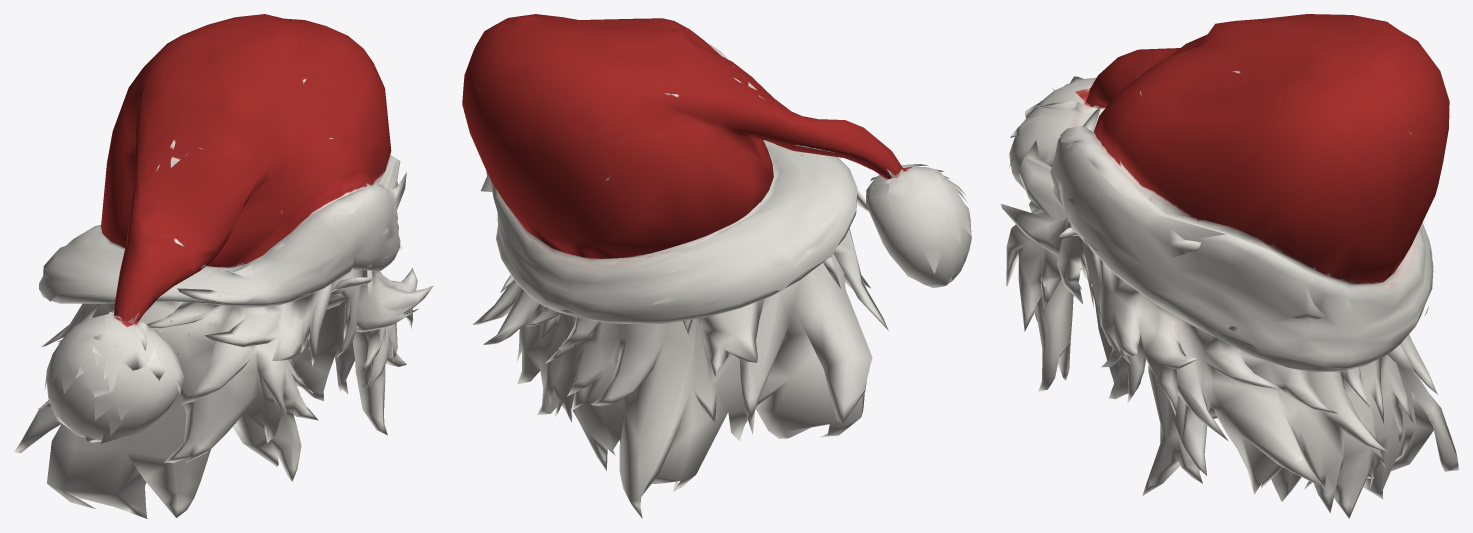
File: Hair_SantaHat.fbx
3 renders of one model, left to right at view 1: azimuth 30°, elevation 25°; view 2: azimuth 150°, elevation 25°; view 3: azimuth 270°, elevation 25°, orthographic. The views are drawn at different scales.
Parts seen in each view (by area): view 1: Hair; view 2: Hair; view 3: Hair.
Part boxes in pixels (x1,y1,x2,y2): Hair: (14, 14, 433, 518); Hair: (462, 14, 971, 518); Hair: (1001, 14, 1458, 518).
Size of the model in its own units: 231 by 228 by 189.
1 material, 1 textured.
